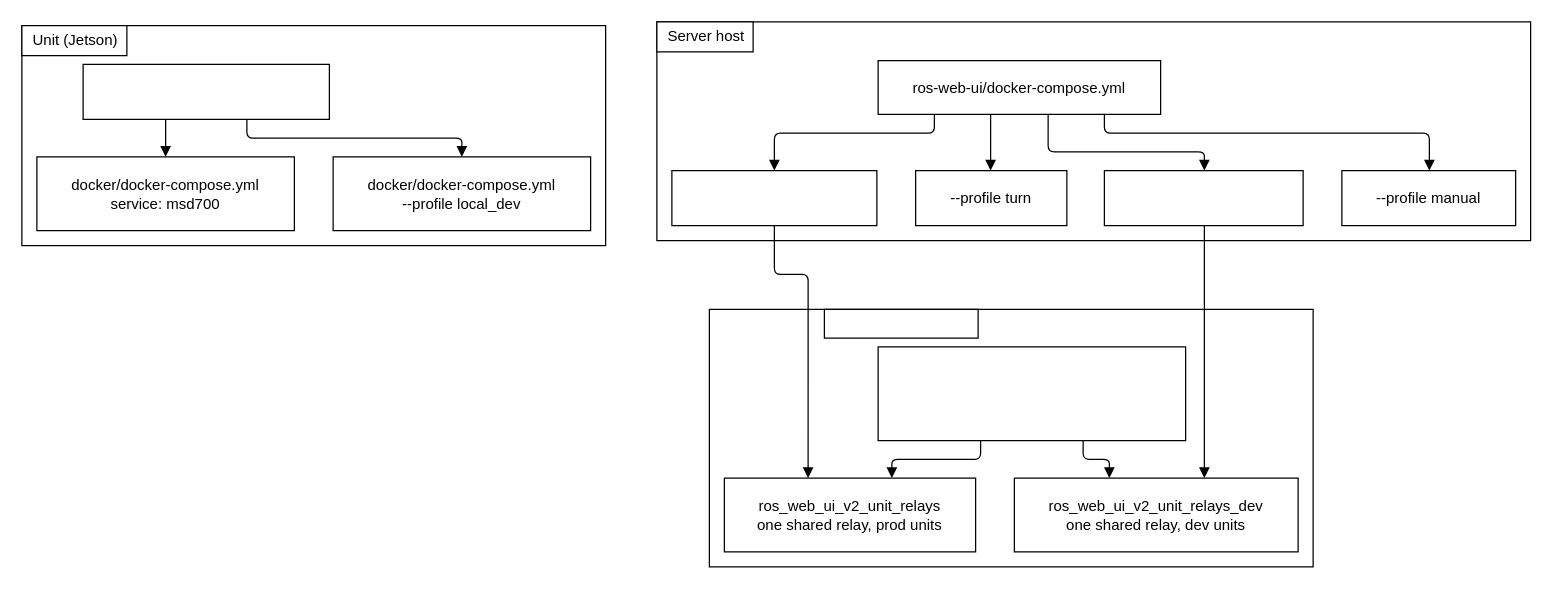
This 1553x589 diagram has some shape labels left out. The shapes that lost their labels are listed below. From the top down, each one's centre as x and y in pixels, then its label:
At (x=205, y=91): "scripts/docker-manager.sh".
At (x=774, y=197): "--profile server_prod".
At (x=1203, y=197): "--profile server_dev".
At (x=900, y=323): "Backend, at runtime".
At (x=1031, y=393): "unit_manager.js restart/reconcile via Docker API, never create".
